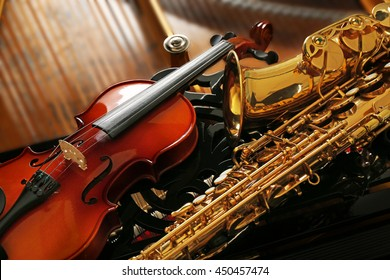Saxophone: (102, 7, 388, 255)
Violin: (1, 15, 279, 262)
